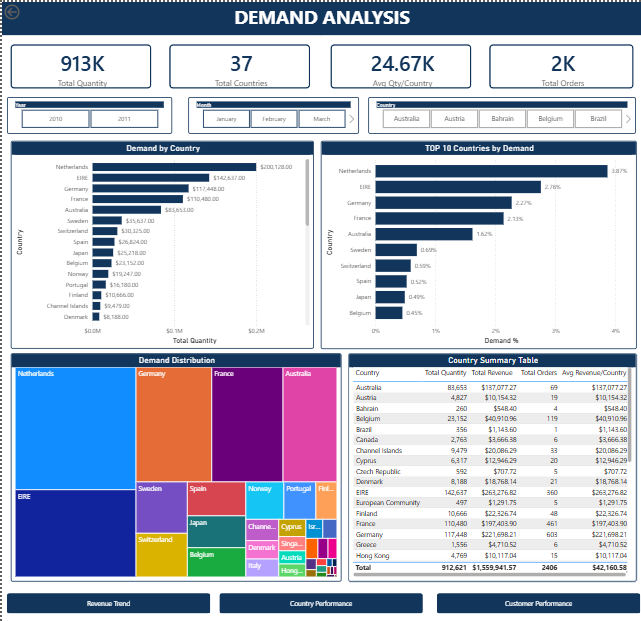

Layout of this report page (visuals, bound fields, positions):
{"tool":"powerbi","page":{"name":"Dashboard 4 - Demand Analysis","canvas":[1280,1250],"ordinal":3},"visuals":[{"type":"textbox","box":[0,0,1280,66],"z":0},{"type":"actionButton","box":[10,1183.3,406.6,40.4],"z":0,"group":"g1"},{"type":"cardVisual","fields":{"Data":["Online Retail.Total Quantity"]},"box":[0,66.7,316.7,123.3],"z":1000},{"type":"actionButton","box":[868.9,1183.3,406.6,40.4],"z":1000,"group":"g1"},{"type":"cardVisual","fields":{"Data":["Online Retail.Total Countries"]},"box":[316.7,66.7,316.7,123.3],"z":2000},{"type":"actionButton","box":[435.4,1183.3,406.6,40.4],"z":2000,"group":"g1"},{"type":"cardVisual","fields":{"Data":["Online Retail.Avg Qty/Country"]},"box":[640,66.7,316.7,123.3],"z":3000},{"type":"cardVisual","fields":{"Data":["Online Retail.Total Orders"]},"box":[956.7,66.7,323.3,123.3],"z":4000},{"type":"slicer","fields":{"Values":["Online Retail.Country"]},"box":[733.3,190,535,73.3],"z":5000},{"type":"slicer","fields":{"Values":["Online Retail.InvoiceDate.Variation.Date Hierarchy.Year"]},"box":[10,190,330,73.3],"z":6000},{"type":"slicer","fields":{"Values":["Online Retail.InvoiceDate.Variation.Date Hierarchy.Month"]},"box":[373.3,190,341.7,73.3],"z":7000},{"type":"clusteredBarChart","title":"Demand by Country","fields":{"Category":["Online Retail.Country"],"Y":["Online Retail.Total Quantity"]},"box":[16.7,276.7,606.7,416.3],"z":8000},{"type":"barChart","title":"TOP 10 Countries by Demand","fields":{"Category":["Online Retail.Country"],"Y":["Online Retail.Demand %"]},"box":[636.7,276.7,631.7,416.7],"z":9000},{"type":"treemap","title":"Demand Distribution","fields":{"Group":["Online Retail.Country"],"Values":["Online Retail.Total Quantity"]},"box":[16.7,703.3,661.7,456.7],"z":10000},{"type":"tableEx","title":"Country Summary Table","fields":{"Values":["Online Retail.Country","Online Retail.Total Quantity","Online Retail.Total Revenue","Online Retail.Total Orders","select","Online Retail.Avg Revenue/Country"]},"box":[691.7,703.3,576.7,456.7],"z":11000},{"type":"actionButton","box":[0,0,100,40],"z":12000},{"type":"group","id":"g1","title":"Group 1","box":[10,1183.3,1263.3,38.3],"z":13000}]}

Visuals, with their boxes in screenshot pixels (x1, y1, x2, y2), scaled from the page's 1280x1250 canvas onto the 641x621 screenshot:
textbox: 0/0/640/33
actionButton: 5/588/209/608
cardVisual - Online Retail.Total Quantity: 0/33/159/94
actionButton: 435/588/639/608
cardVisual - Online Retail.Total Countries: 159/33/317/94
actionButton: 218/588/422/608
cardVisual - Online Retail.Avg Qty/Country: 320/33/479/94
cardVisual - Online Retail.Total Orders: 479/33/640/94
slicer - Online Retail.Country: 367/94/635/131
slicer - Online Retail.InvoiceDate.Variation.Date Hierarchy.Year: 5/94/170/131
slicer - Online Retail.InvoiceDate.Variation.Date Hierarchy.Month: 187/94/358/131
"Demand by Country" clusteredBarChart: 8/137/312/344
"TOP 10 Countries by Demand" barChart: 319/137/635/344
"Demand Distribution" treemap: 8/349/340/576
"Country Summary Table" tableEx: 346/349/635/576
actionButton: 0/0/50/20
"Group 1" group: 5/588/638/607
